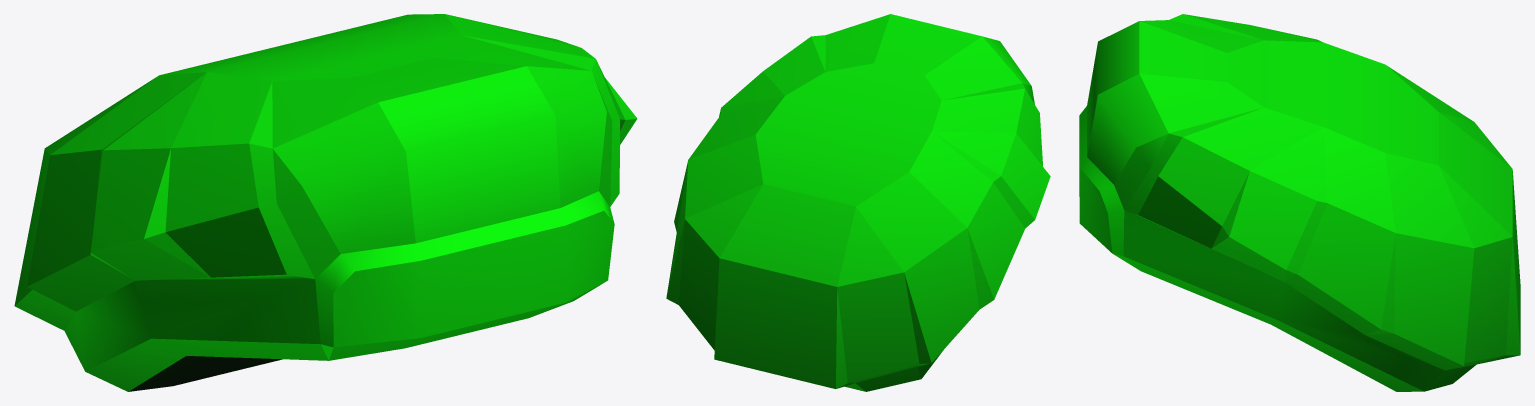
The model's file is Beret.fbx.
3 views of the same model, side by side, from view 1: azimuth 30°, elevation 25°; view 2: azimuth 150°, elevation 25°; view 3: azimuth 270°, elevation 25° (orthographic). The views are drawn at different scales.
Visible parts, largest first — view 1: Beret; view 2: Beret; view 3: Beret.
Part boxes in pixels (<box>): Beret: <box>14,14,637,391</box>; Beret: <box>666,14,1050,391</box>; Beret: <box>1079,14,1520,391</box>.
Bounding box in the file's own units: 34.58 × 26.74 × 34.76.
